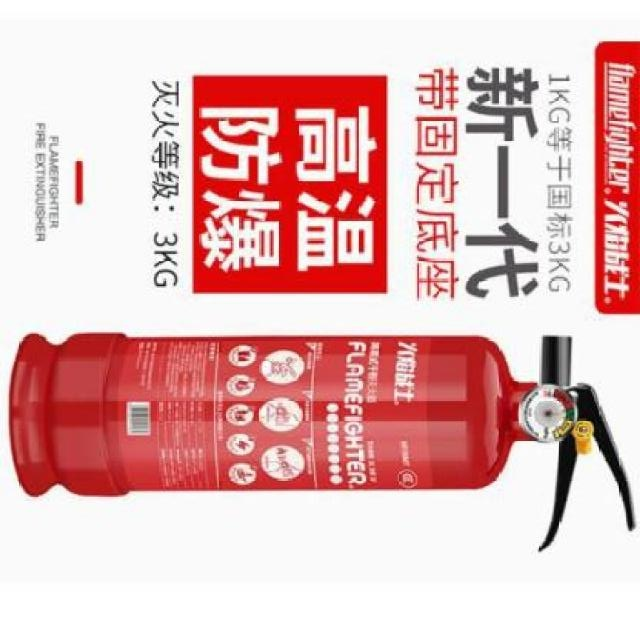fire extinguisher: (8, 332, 637, 553)
